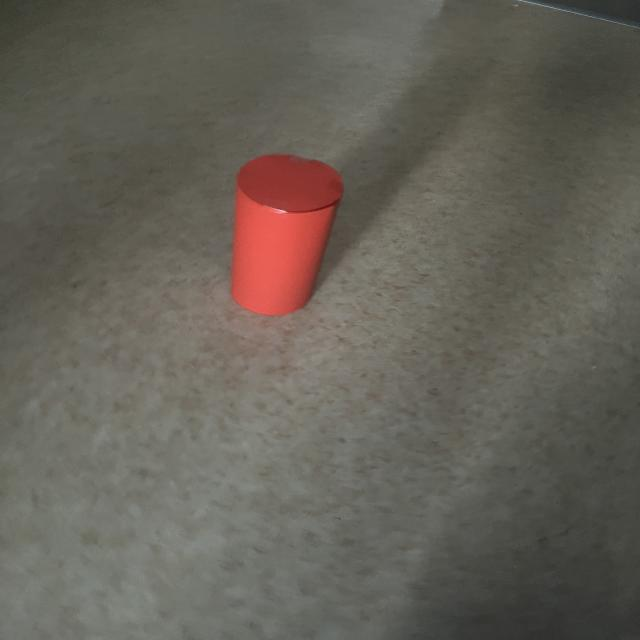przeszkoda: (231, 154, 343, 315)
